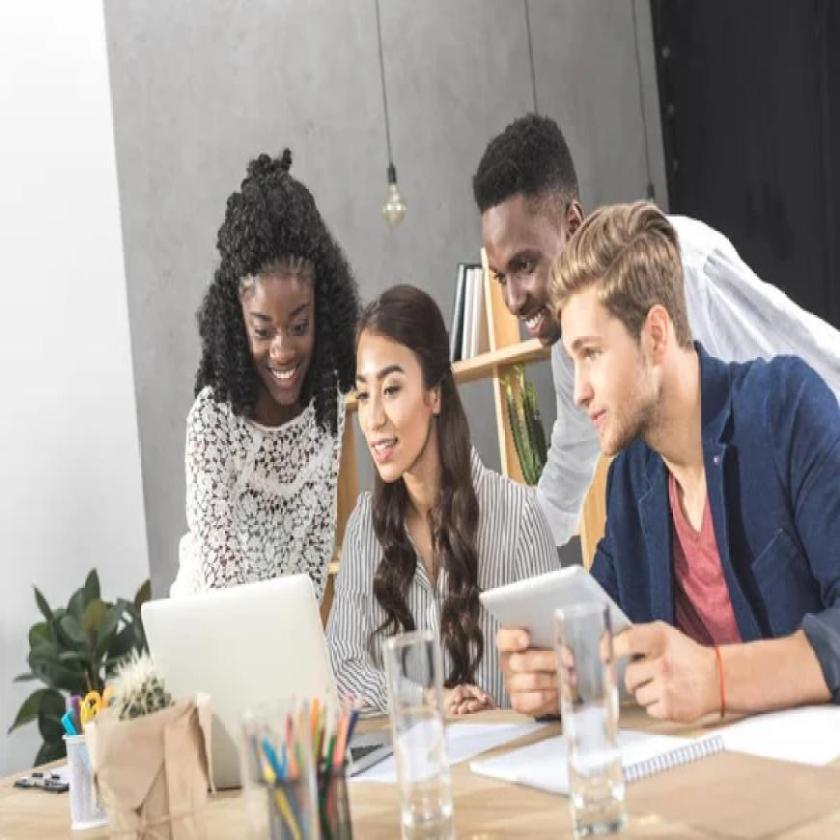Sin_casco: (556, 202, 700, 471), (206, 146, 337, 421), (468, 106, 583, 347), (352, 284, 461, 515)
